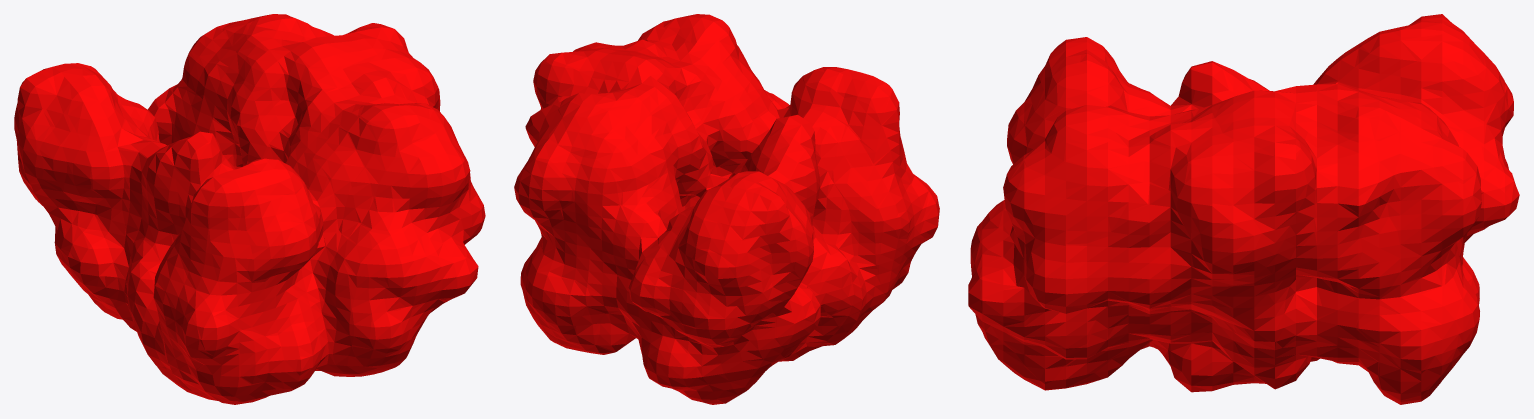
File: tsaD_coarse.dae
3 views of the same model, side by side, from view 1: azimuth 30°, elevation 25°; view 2: azimuth 150°, elevation 25°; view 3: azimuth 270°, elevation 25° (orthographic). The views are drawn at different scales.
Parts seen in each view (by area): view 1: tsaD; view 2: tsaD; view 3: tsaD.
Part boxes in pixels (bbox=[...]): tsaD: bbox=[14, 14, 485, 404]; tsaD: bbox=[514, 14, 939, 404]; tsaD: bbox=[968, 14, 1519, 404].
Bounding box in the file's own units: 81.64 × 65.65 × 94.84.
